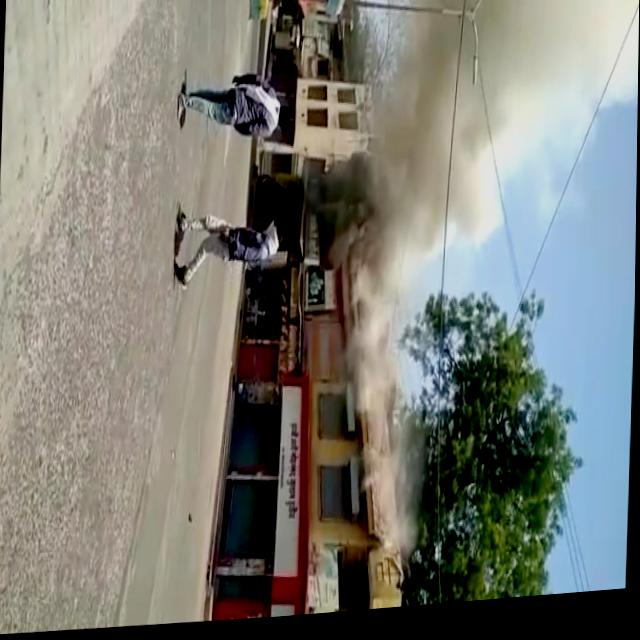no_helmet: (328, 0, 640, 569)
